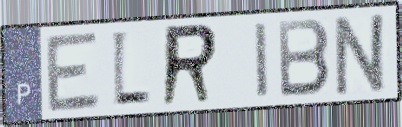B: (275, 17, 333, 100)
E: (43, 29, 103, 116)
I: (252, 19, 272, 101)
L: (109, 28, 152, 111)
N: (333, 10, 391, 99)
R: (159, 21, 221, 110)
